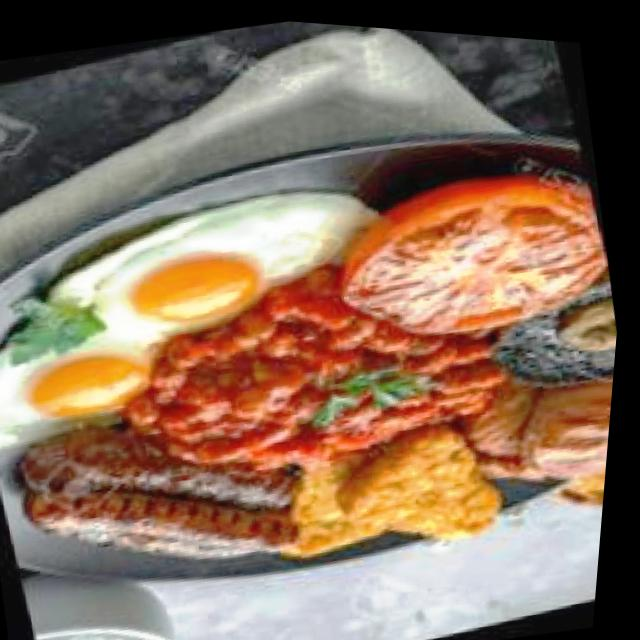Hashbrown: (329, 418, 507, 561), (268, 445, 394, 563)
fried_eggs: (61, 169, 383, 369), (0, 313, 168, 462)
